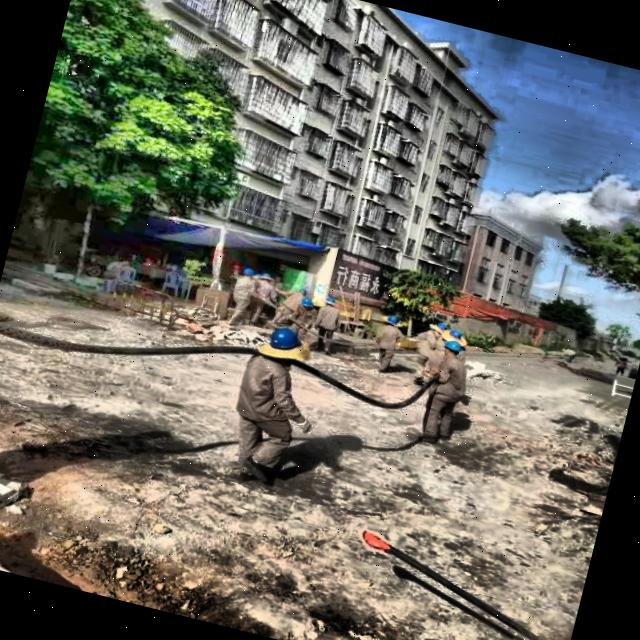helmet: (262, 324, 309, 364), (440, 336, 465, 362), (379, 311, 401, 332), (321, 292, 342, 312), (444, 326, 464, 344), (298, 295, 312, 310)
